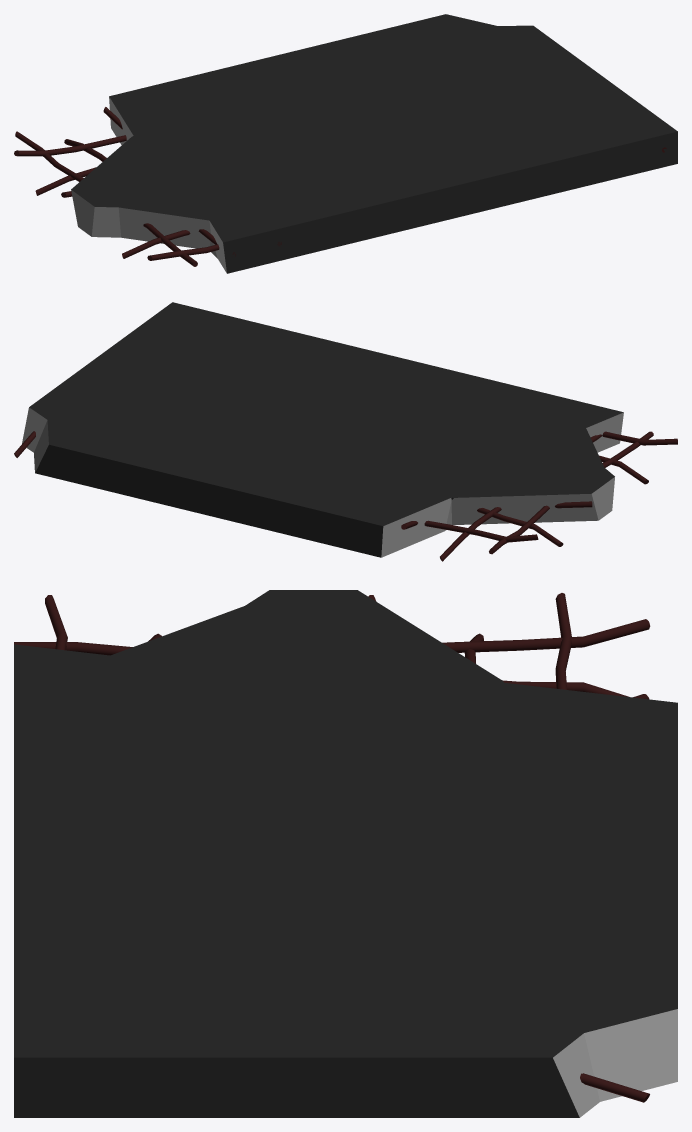
Rendered from P_MurCassé1.fbx.
3 renders of one model, top to bottom at view 1: azimuth 30°, elevation 25°; view 2: azimuth 150°, elevation 25°; view 3: azimuth 270°, elevation 25°, orthographic. The views are drawn at different scales.
Visible parts, largest first — view 1: P_MurCassé1; view 2: P_MurCassé1; view 3: P_MurCassé1.
Part boxes in pixels (x1,y1,x2,y2): P_MurCassé1: (14,14,677,273); P_MurCassé1: (14,302,677,561); P_MurCassé1: (14,590,677,1117).
Bounding box in the file's own units: 505 × 30 × 300.
